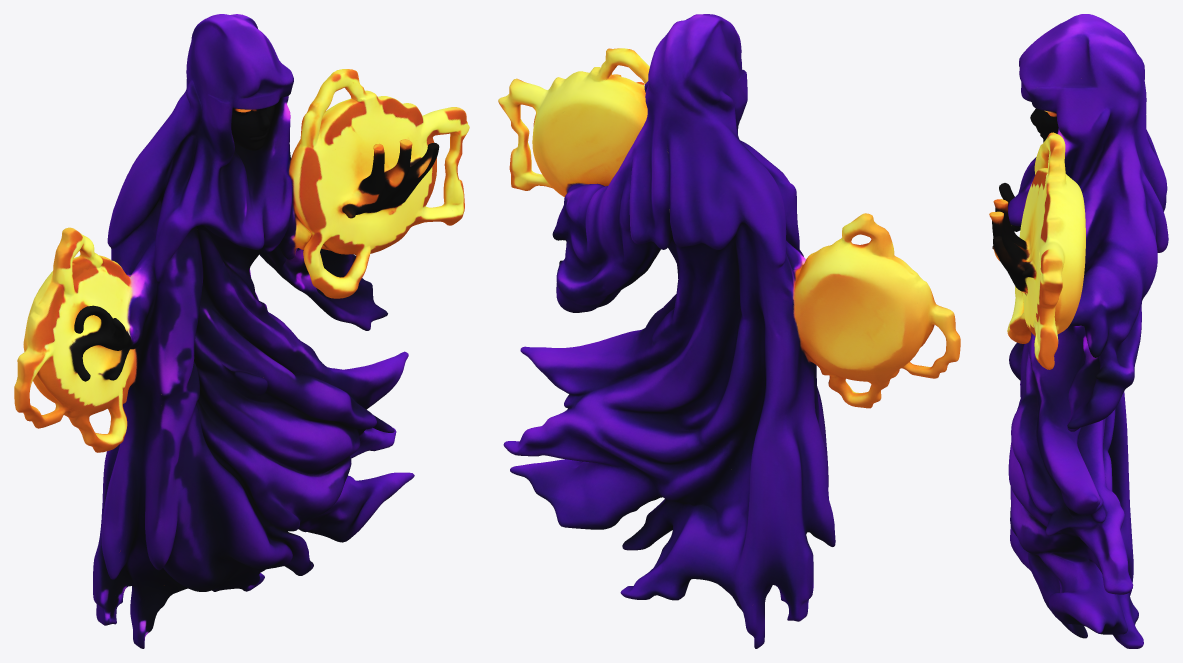
File: miniboss.glb
The picture shows the model from 3 angles, left to right: view 1: azimuth 30°, elevation 25°; view 2: azimuth 150°, elevation 25°; view 3: azimuth 270°, elevation 25°; orthographic projection. The views are drawn at different scales.
Visible parts, largest first — view 1: model; view 2: model; view 3: model.
Boxes of the visible parts, x1,y1,x2,y2 form: model: (14, 14, 469, 648); model: (498, 14, 960, 648); model: (989, 14, 1168, 648).
Bounding box in the file's own units: 1.47 × 1.9 × 0.4876.
Materials: 1 (1 with a texture image).
